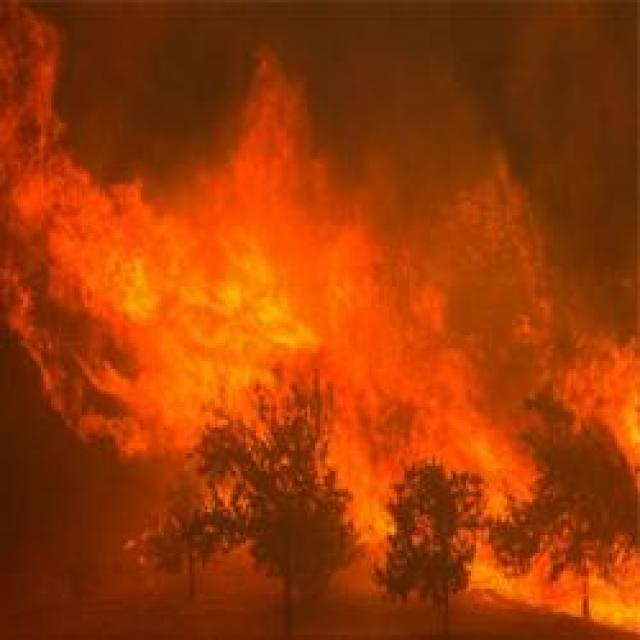fire: (90, 200, 322, 380), (332, 235, 483, 477), (570, 320, 640, 455)
smoke: (352, 44, 524, 260), (228, 21, 324, 219), (568, 148, 640, 336)
